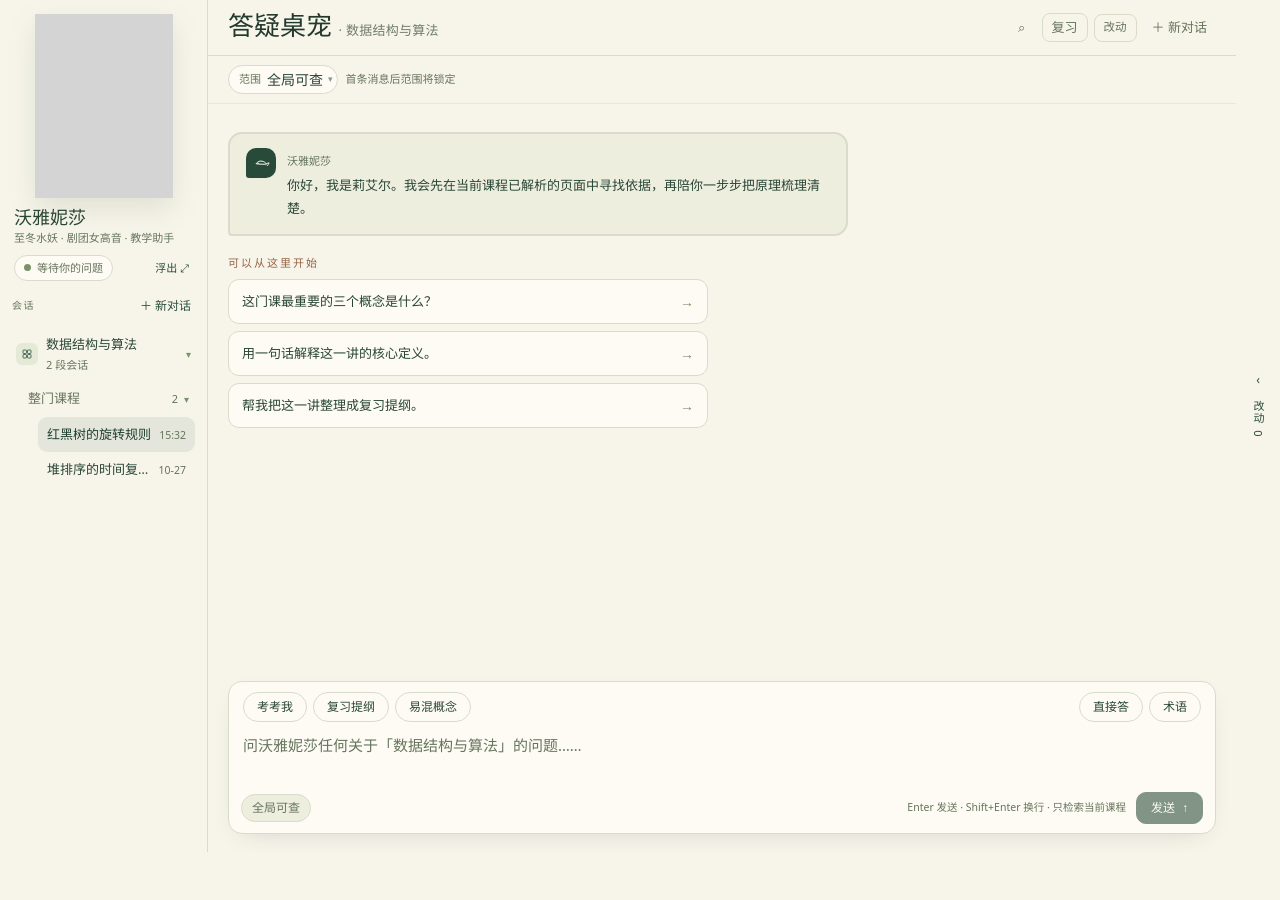
点击会话历史切换会话；顶栏搜索按钮打开命令面板并按标题过滤
Click the button "堆排序的时间复杂度 10-27" at (116, 470), box [38, 452, 195, 488]
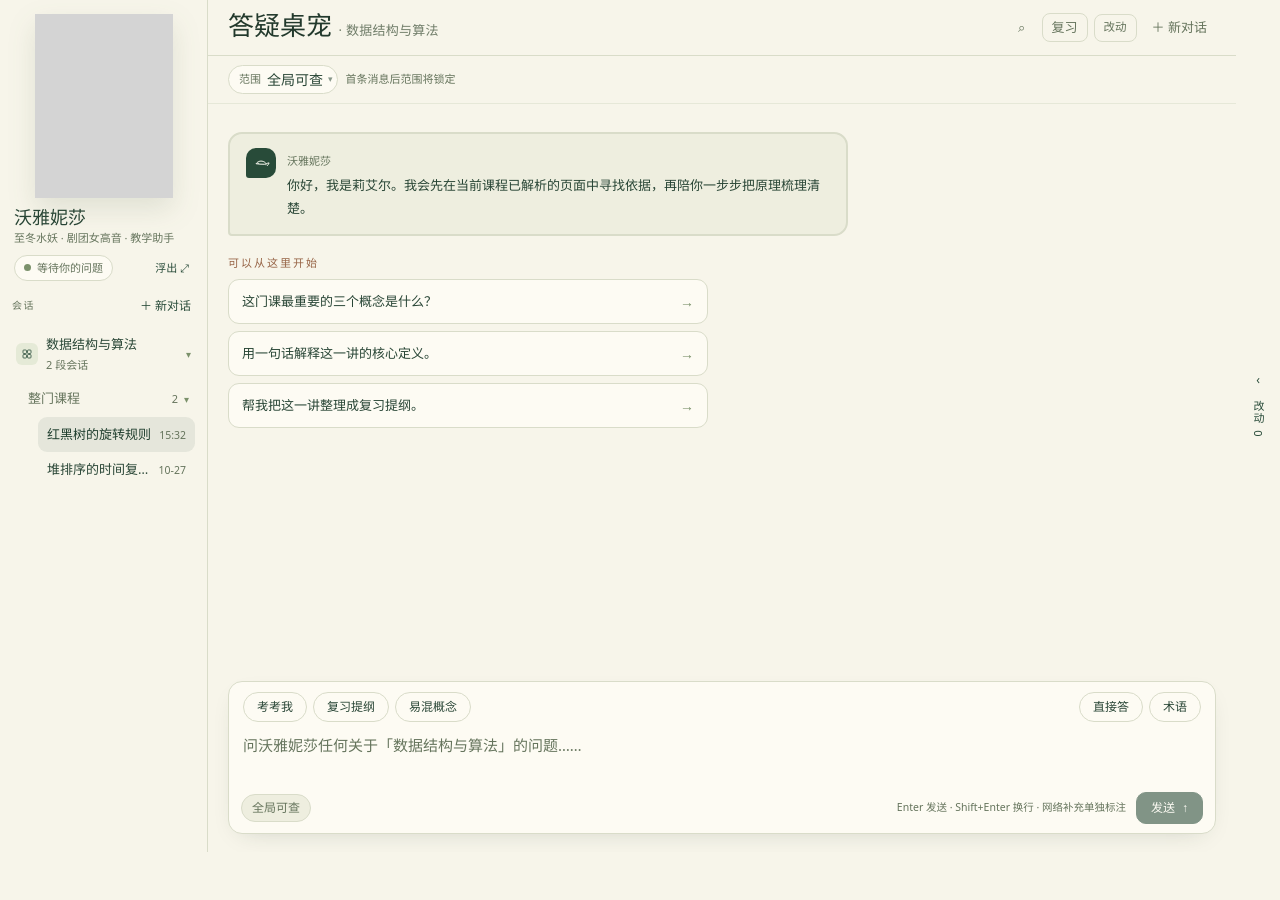
Click the button named "搜索会话" at (1022, 28), box [1008, 13, 1036, 42]
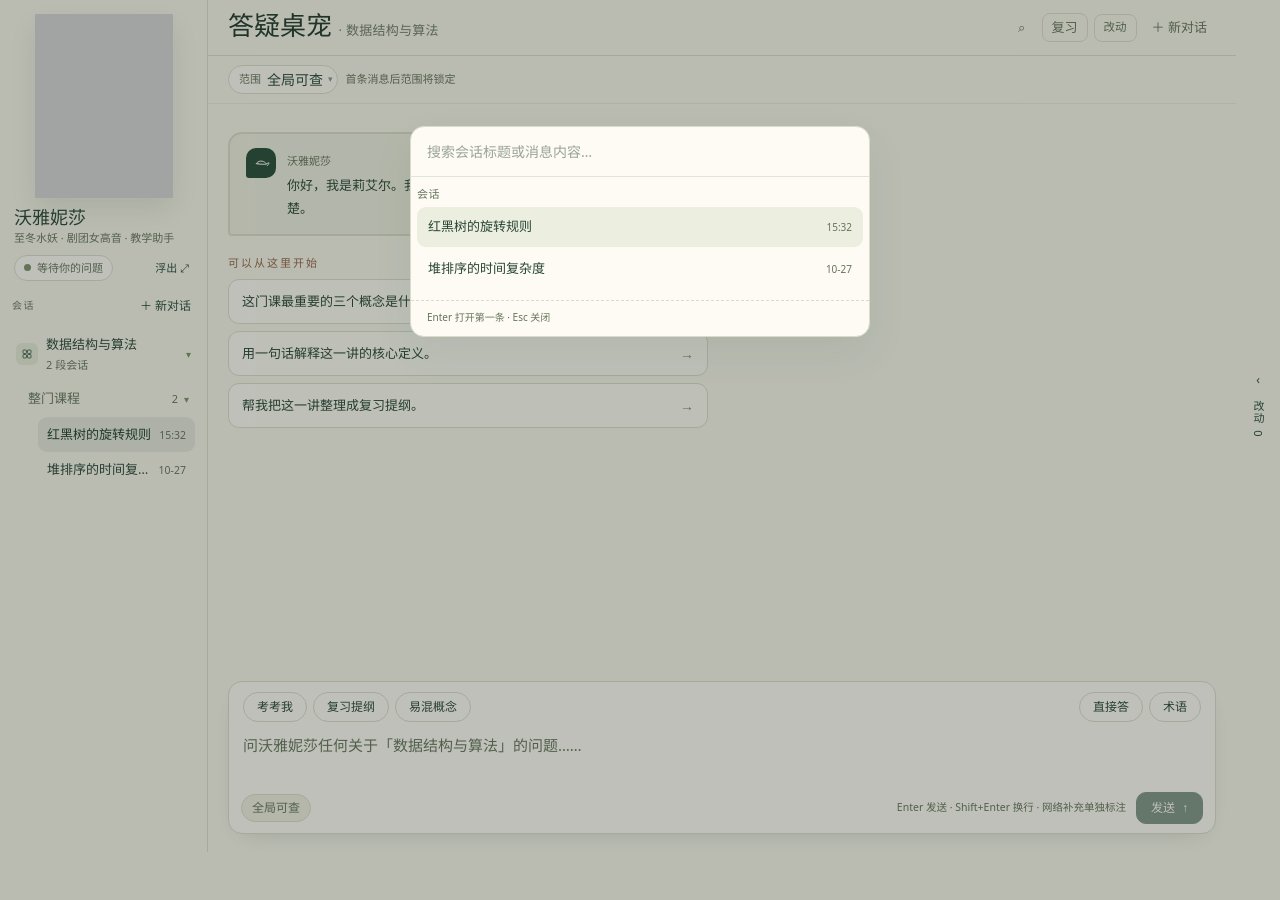
Type "堆排序" into the field labelled "搜索会话标题" at (640, 152), box [411, 127, 869, 177]
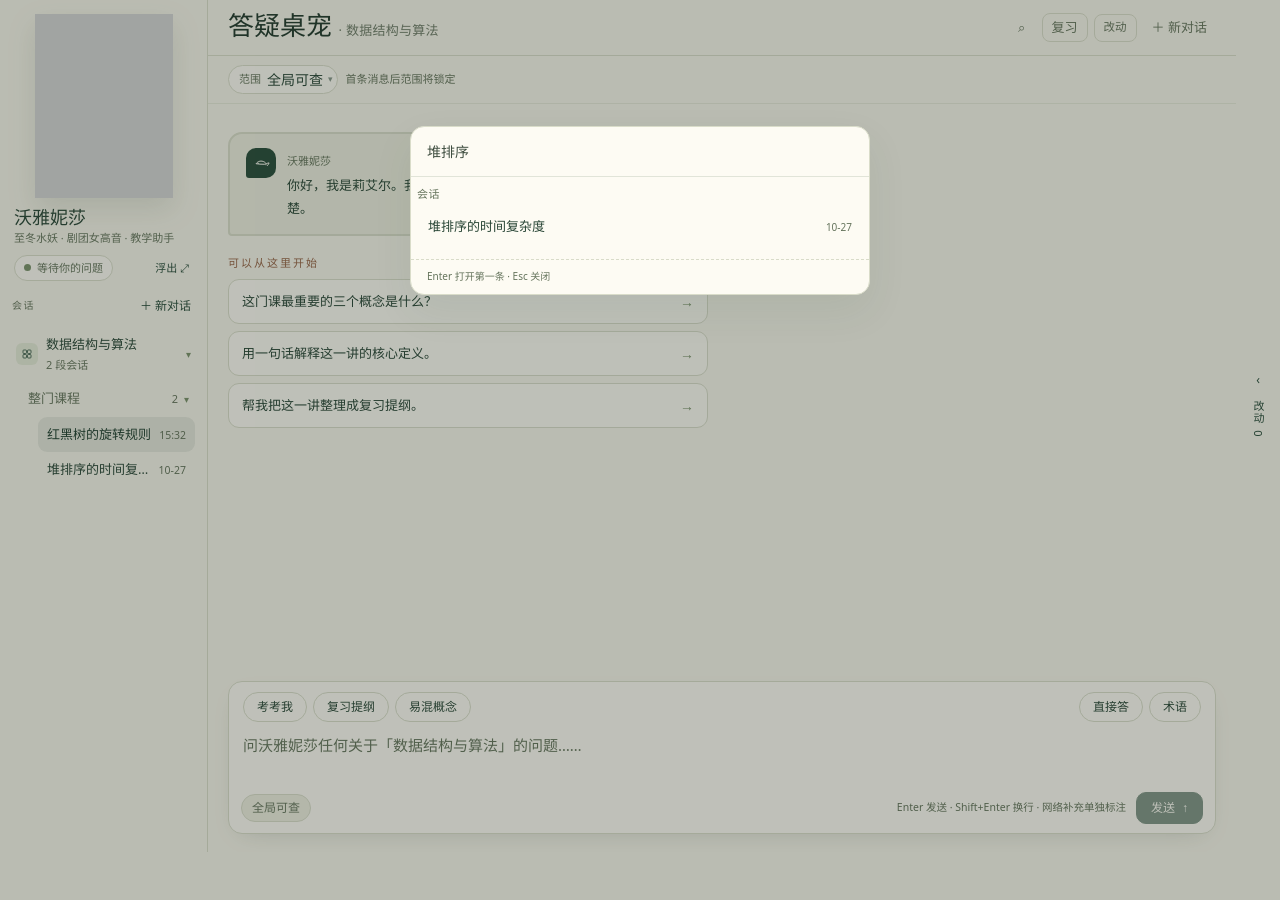
expect the dialog named "搜索会话" shows "堆排序的时间复杂度": met, box [417, 207, 863, 247]
Press Enter in the field named "搜索会话标题", box [411, 127, 869, 177]
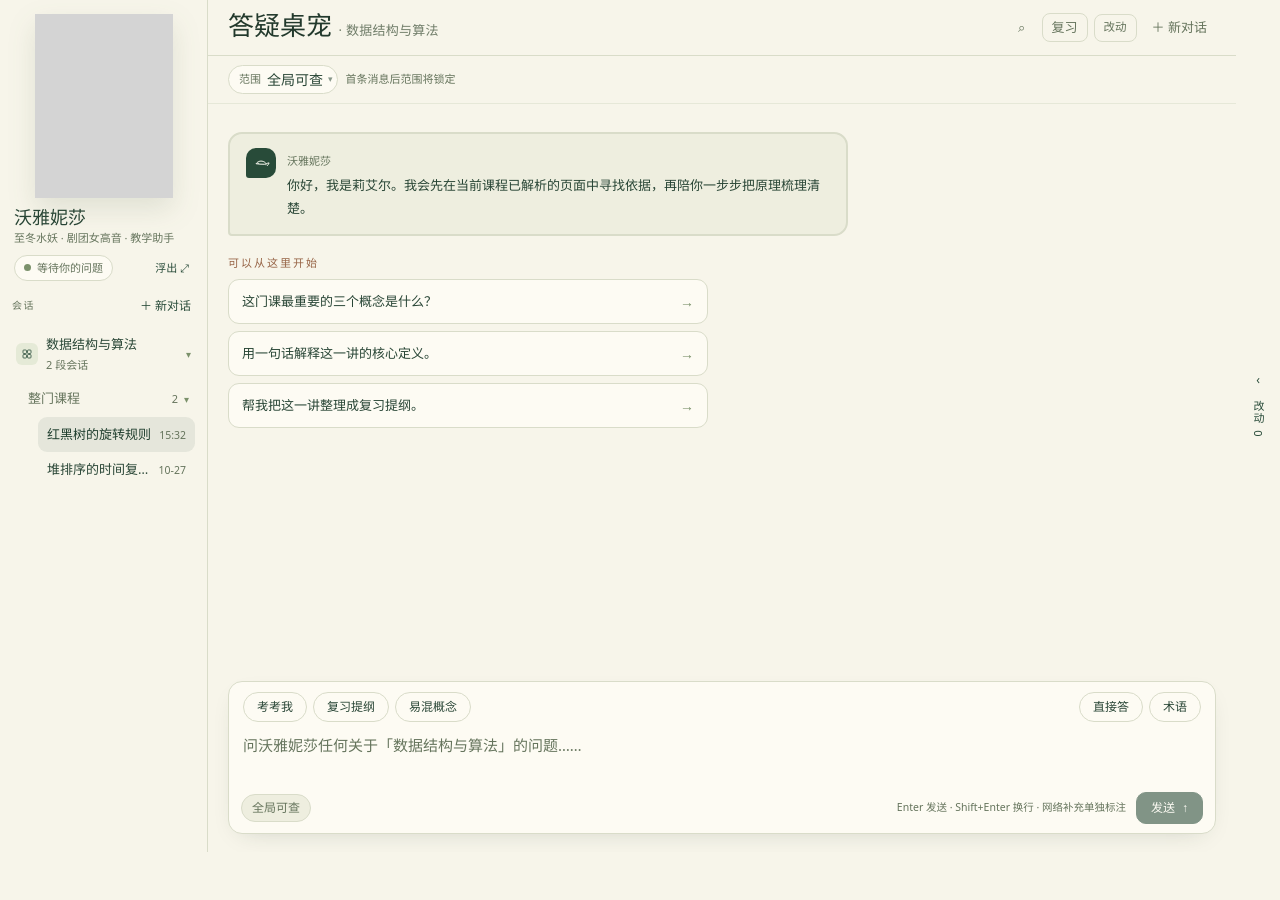
expect the dialog "会话 堆排序的时间复杂度 10-27 Enter 打开第一条 · Esc 关闭" is gone: met
